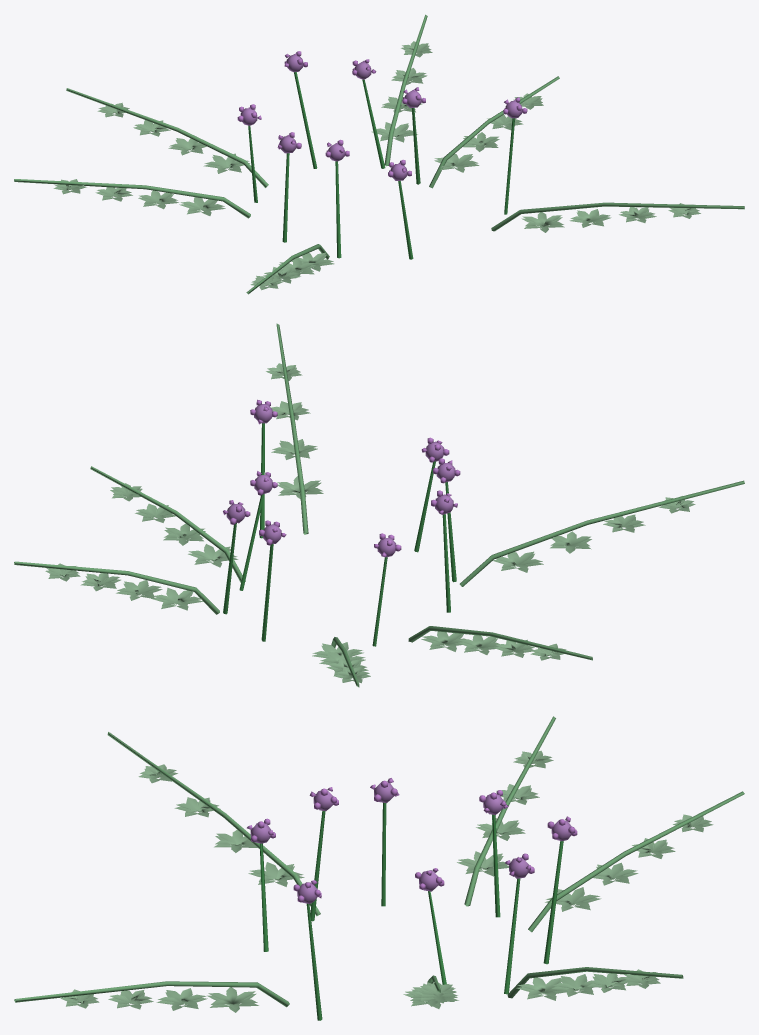
File: ing_wild_thyme.gltf
The picture shows the model from 3 angles, top to bottom: view 1: azimuth 30°, elevation 25°; view 2: azimuth 150°, elevation 25°; view 3: azimuth 270°, elevation 25°; orthographic projection. The views are drawn at different scales.
Visible parts, largest first — view 1: ing_wild_thyme; view 2: ing_wild_thyme; view 3: ing_wild_thyme.
Part boxes in pixels (bbox=[...]): ing_wild_thyme: bbox=[14, 14, 744, 294]; ing_wild_thyme: bbox=[14, 323, 744, 687]; ing_wild_thyme: bbox=[14, 716, 744, 1020].
Size of what is drawn, in the model's own units: 0.6582 by 0.1484 by 0.6821.
